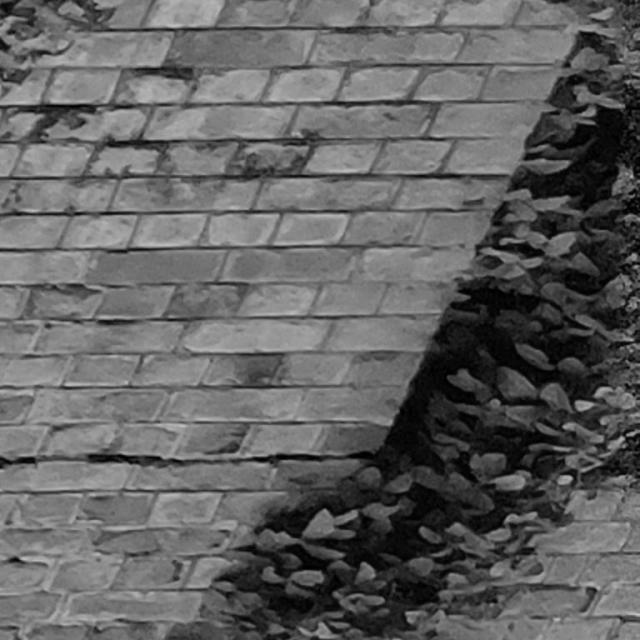crack: (1, 449, 376, 468)
